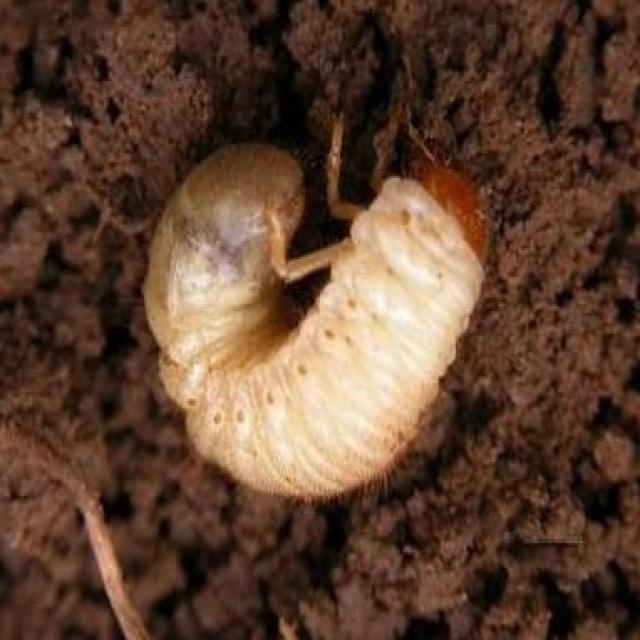grub: (140, 132, 490, 506)
